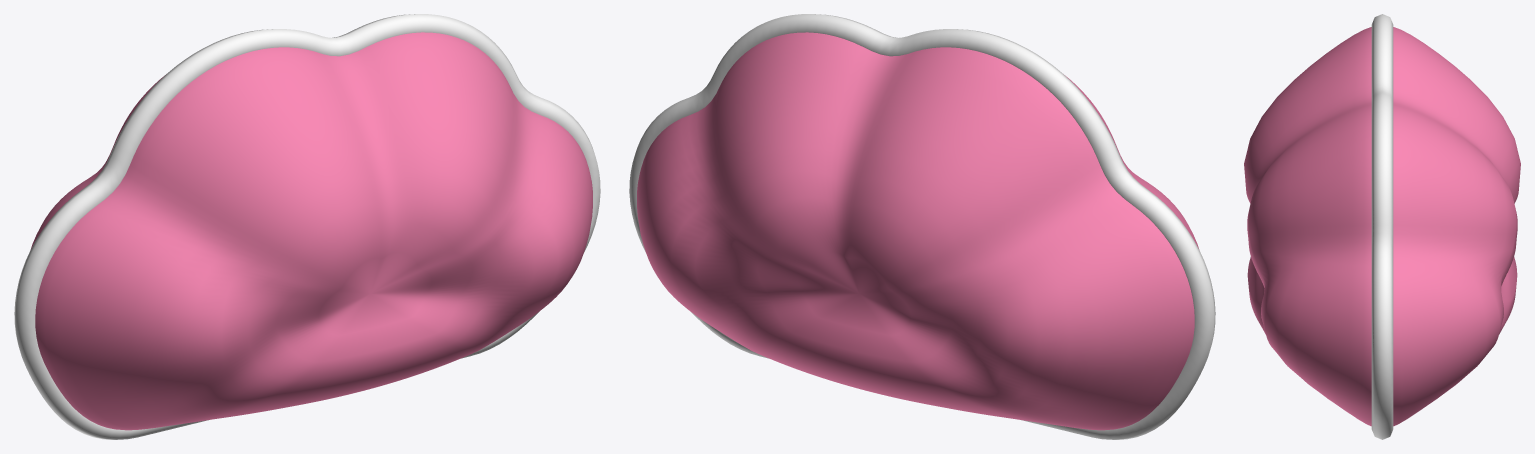
The model's file is 04-comfort-cloud.glb.
The picture shows the model from 3 angles, left to right: view 1: azimuth 30°, elevation 25°; view 2: azimuth 150°, elevation 25°; view 3: azimuth 270°, elevation 25°; orthographic projection. The views are drawn at different scales.
Visible parts, largest first — view 1: ComfortCloud; view 2: ComfortCloud; view 3: ComfortCloud.
Boxes of the visible parts, bbox=[...] form: ComfortCloud: bbox=[14, 14, 600, 439]; ComfortCloud: bbox=[629, 14, 1215, 439]; ComfortCloud: bbox=[1244, 14, 1520, 439].
Size of the model in its own units: 1.2 by 0.7404 by 0.5907.
